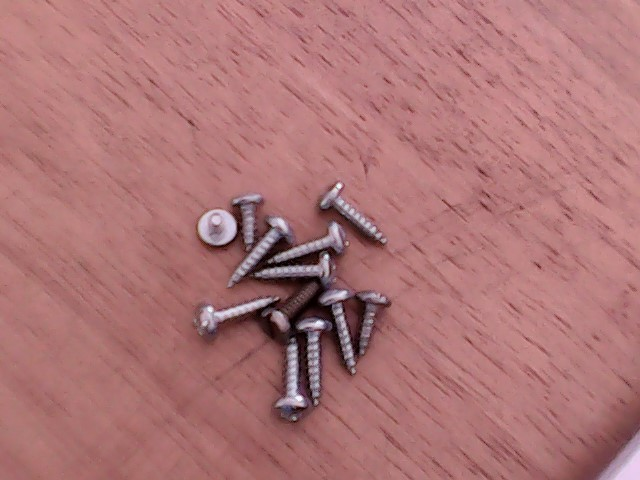Metal: (190, 185, 393, 480)
